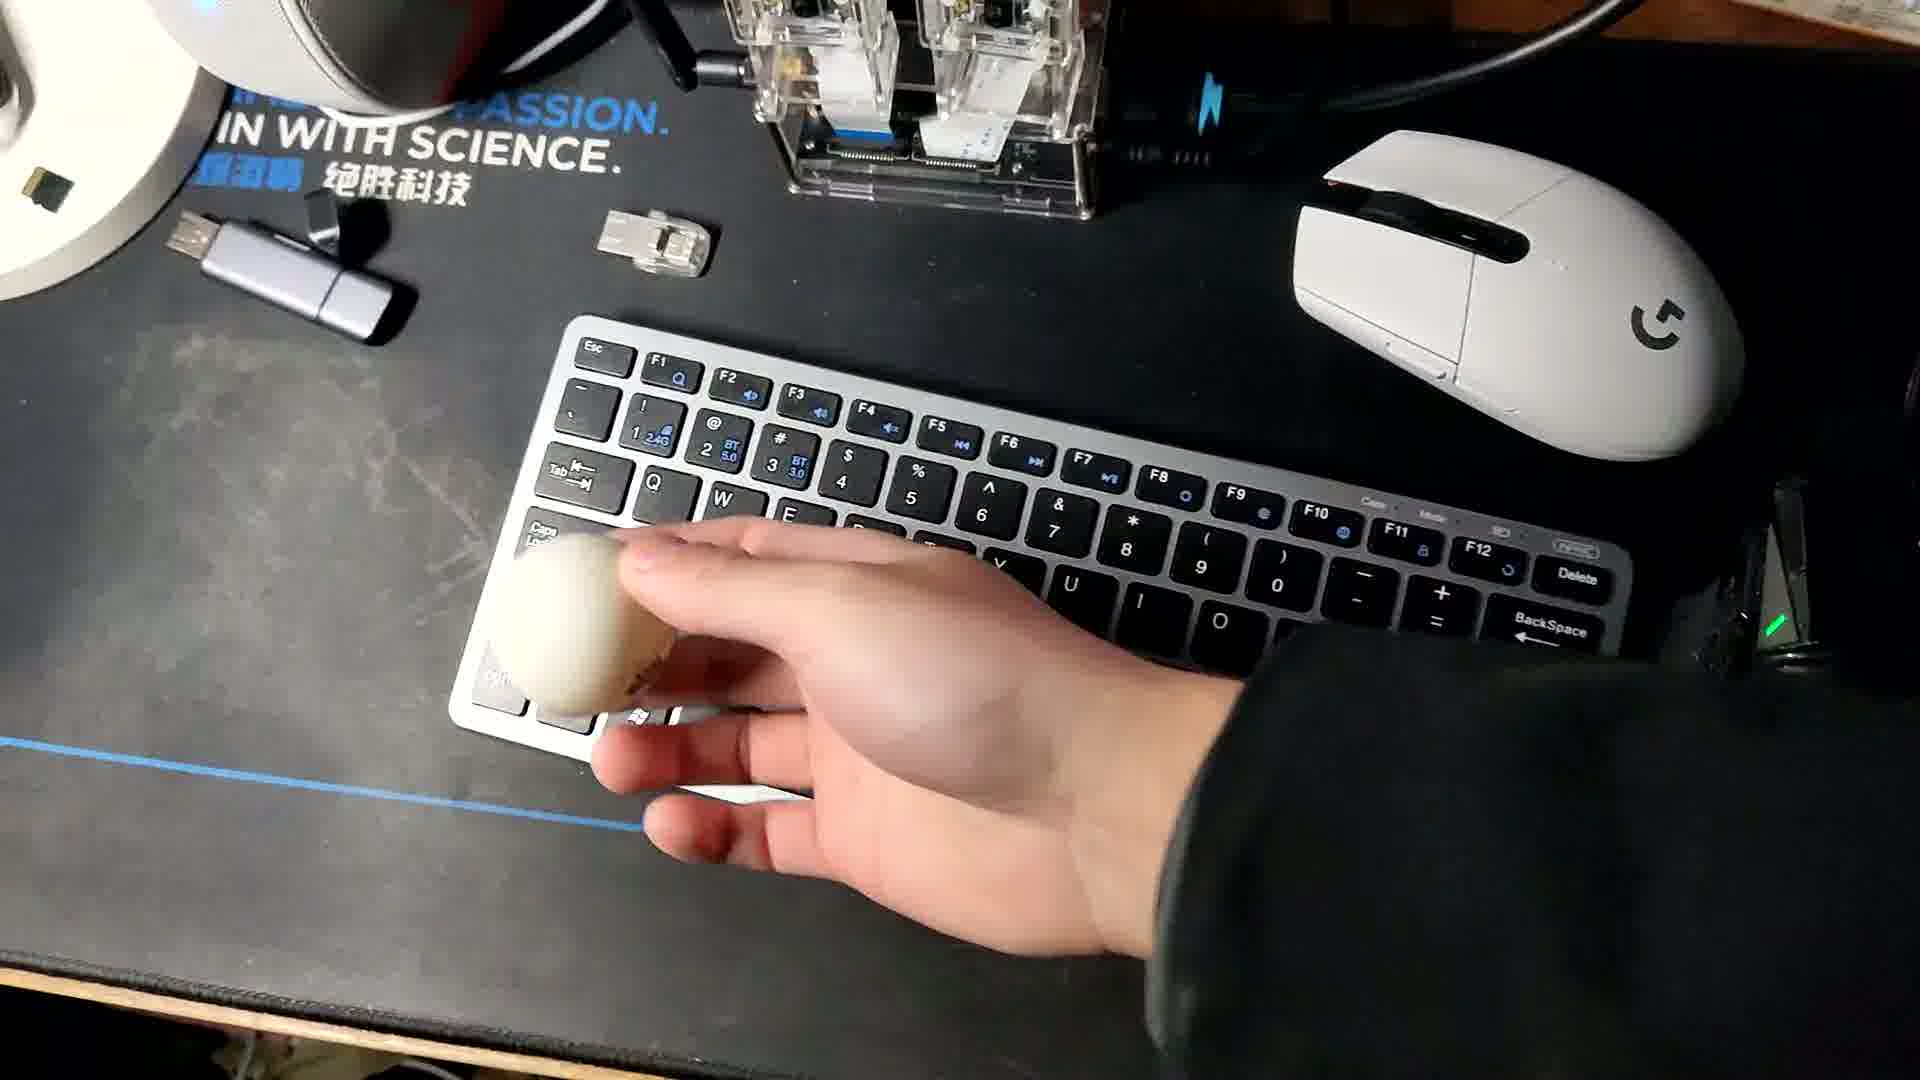Ball: (497, 535, 667, 711)
